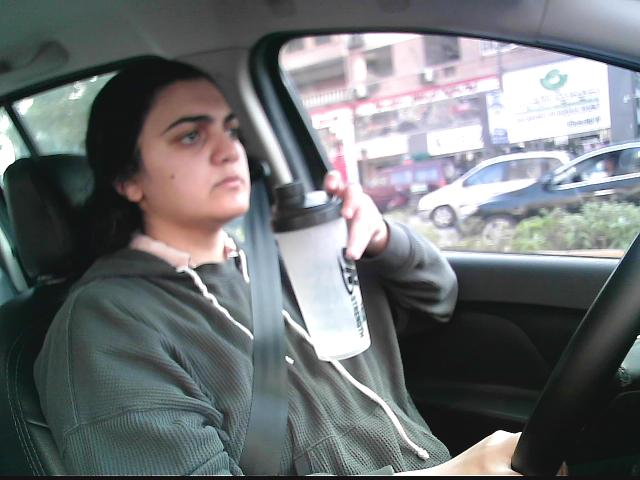Drinking: (269, 175, 372, 363)
